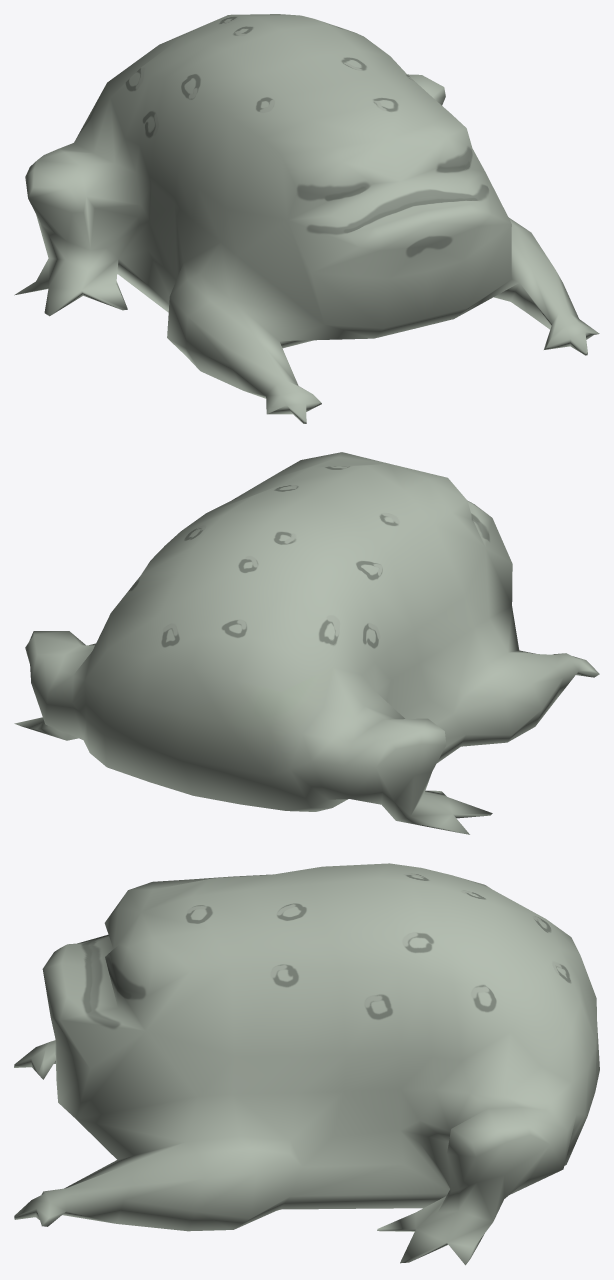
File: sapo 3d com textura.fbx
3 renders of one model, top to bottom at view 1: azimuth 30°, elevation 25°; view 2: azimuth 150°, elevation 25°; view 3: azimuth 270°, elevation 25°, orthographic. The views are drawn at different scales.
Visible parts, largest first — view 1: BSurfaceMesh.001; view 2: BSurfaceMesh.001; view 3: BSurfaceMesh.001.
Part boxes in pixels (left/top/right/bottom): BSurfaceMesh.001: left=14, top=14, right=599, bottom=423; BSurfaceMesh.001: left=14, top=452, right=599, bottom=834; BSurfaceMesh.001: left=14, top=863, right=599, bottom=1265.
Size of the model in its own units: 373 by 195 by 376.
1 material, 1 textured.
